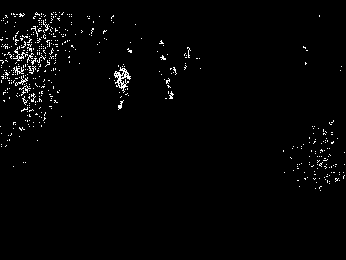person: (159, 54, 178, 103), (114, 64, 129, 108)
